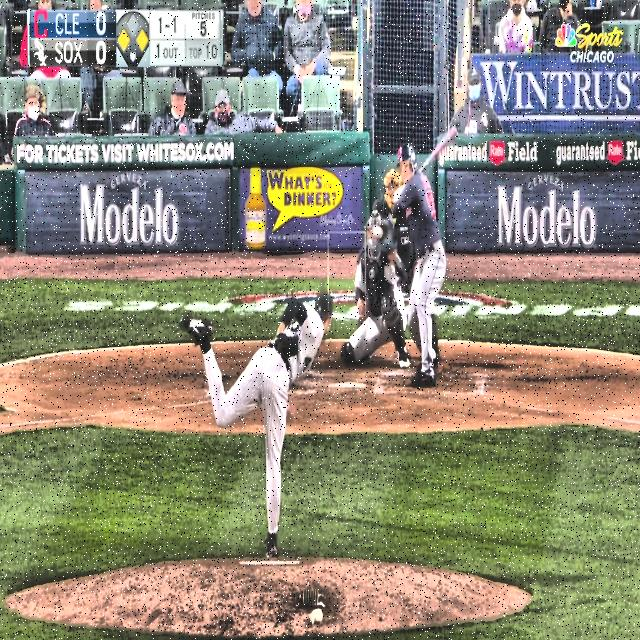baseball: (372, 223, 384, 240)
